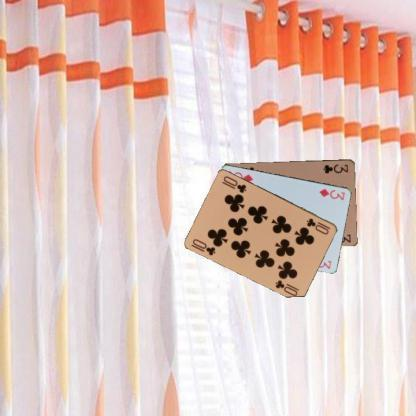10c: (304, 216, 332, 236), (190, 236, 217, 256)
3c: (320, 162, 350, 174)
3d: (316, 186, 346, 201)
